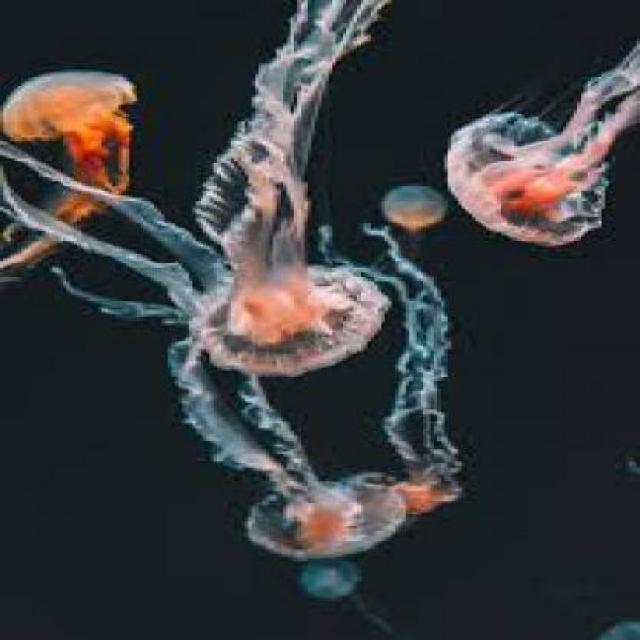Jellyfish: (426, 35, 637, 252), (196, 454, 441, 562)
